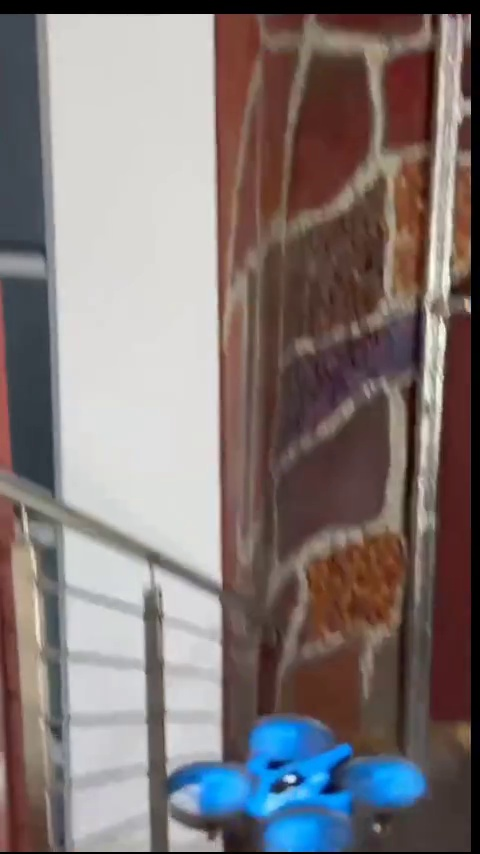drone: (164, 716, 423, 848)
